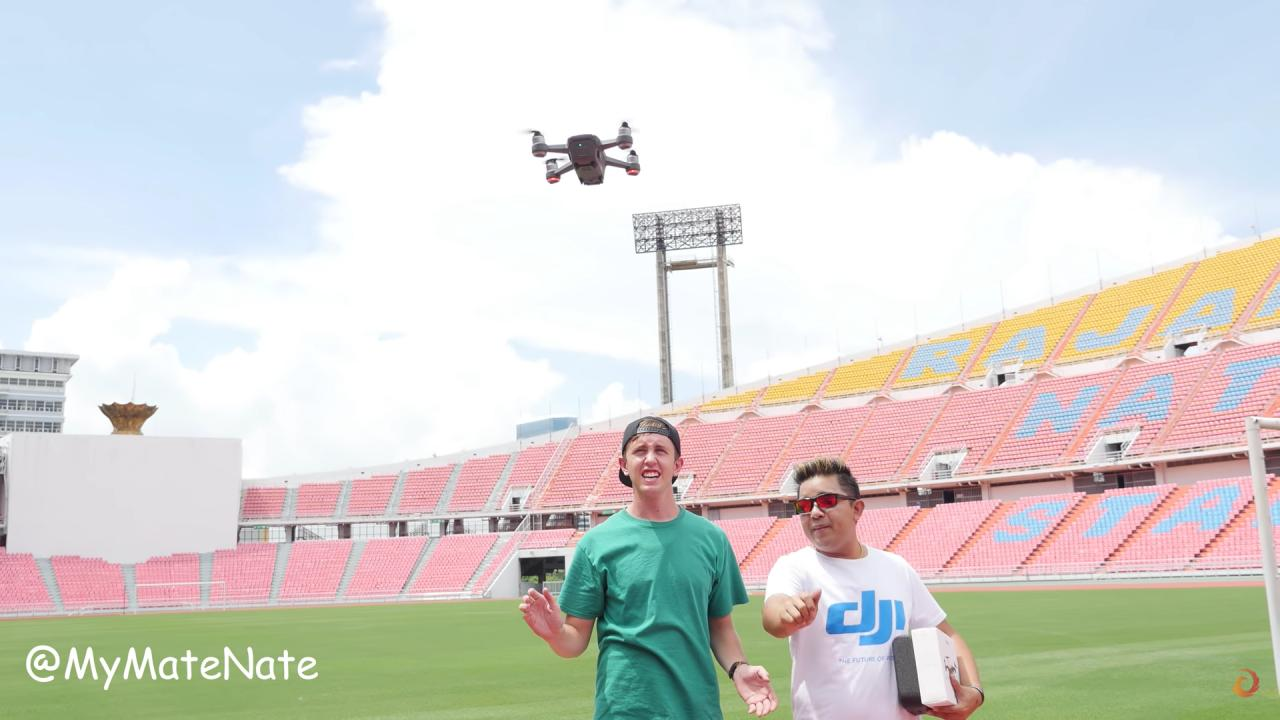Drone: (519, 114, 652, 196)
